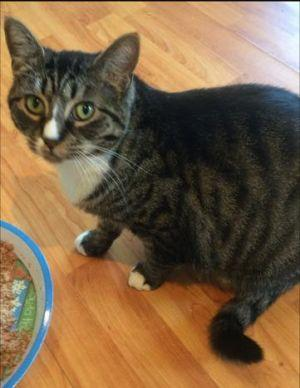bengal: (1, 1, 148, 169)
